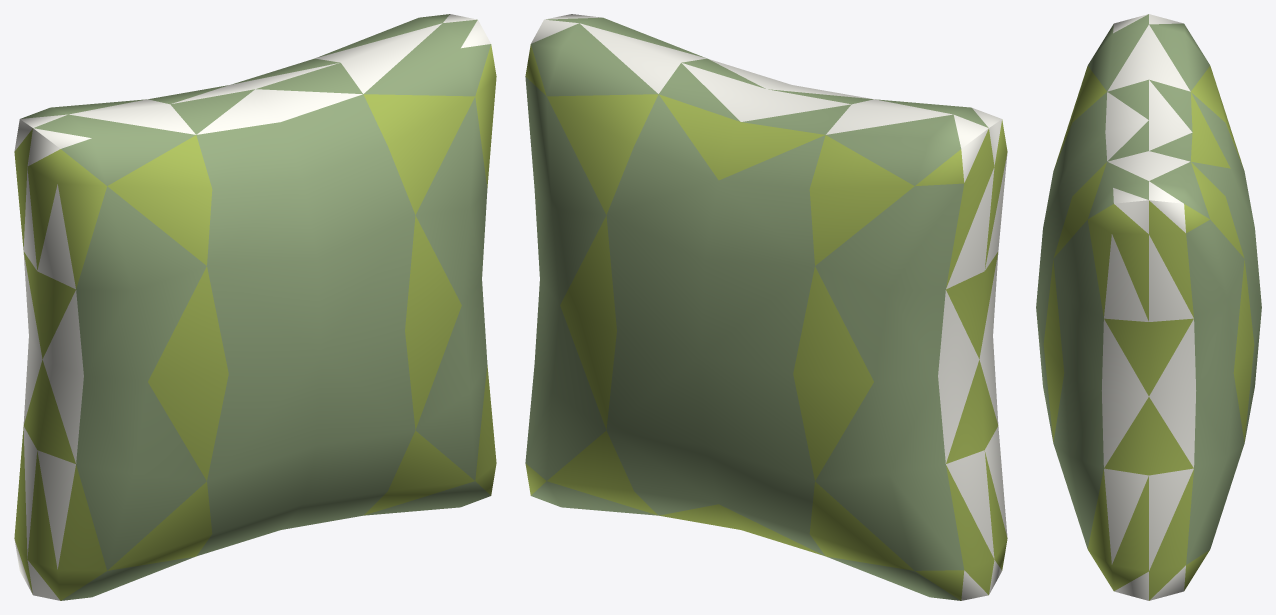
Rendered from itch_tiny_pleasant_picnic_pillow_large_green.glb.
3 views of the same model, side by side, from view 1: azimuth 30°, elevation 25°; view 2: azimuth 150°, elevation 25°; view 3: azimuth 270°, elevation 25° (orthographic). The views are drawn at different scales.
Parts seen in each view (by area): view 1: pillow_large_green; view 2: pillow_large_green; view 3: pillow_large_green.
Boxes of the visible parts, bbox=[...] form: pillow_large_green: bbox=[14, 14, 496, 600]; pillow_large_green: bbox=[525, 14, 1007, 600]; pillow_large_green: bbox=[1036, 14, 1261, 600].
Bounding box in the file's own units: 0.96 × 0.96 × 0.48.
